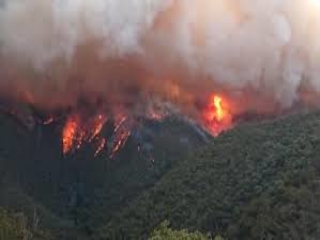fire: (43, 114, 137, 159), (197, 98, 238, 135)
smoke: (13, 7, 309, 101)
